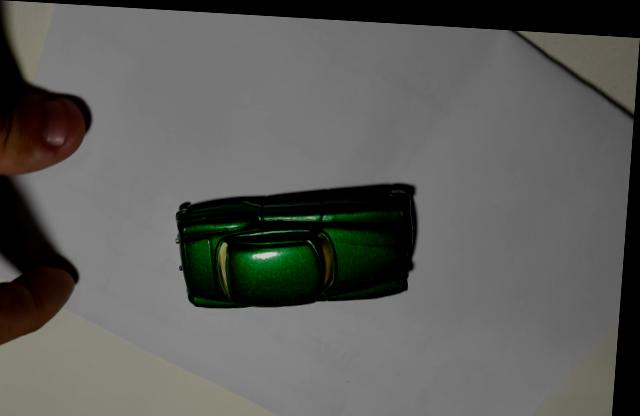06_MASERATI: (178, 176, 421, 305)
